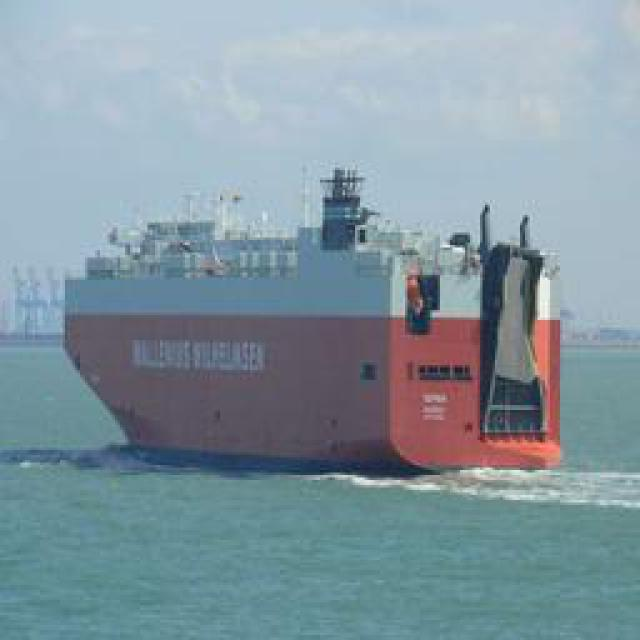Ship: (37, 159, 580, 479)
